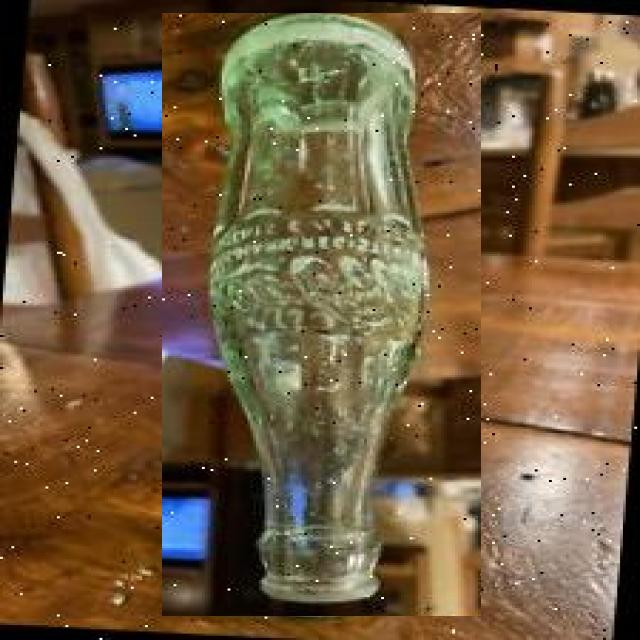coca-cola: (162, 13, 481, 616)
